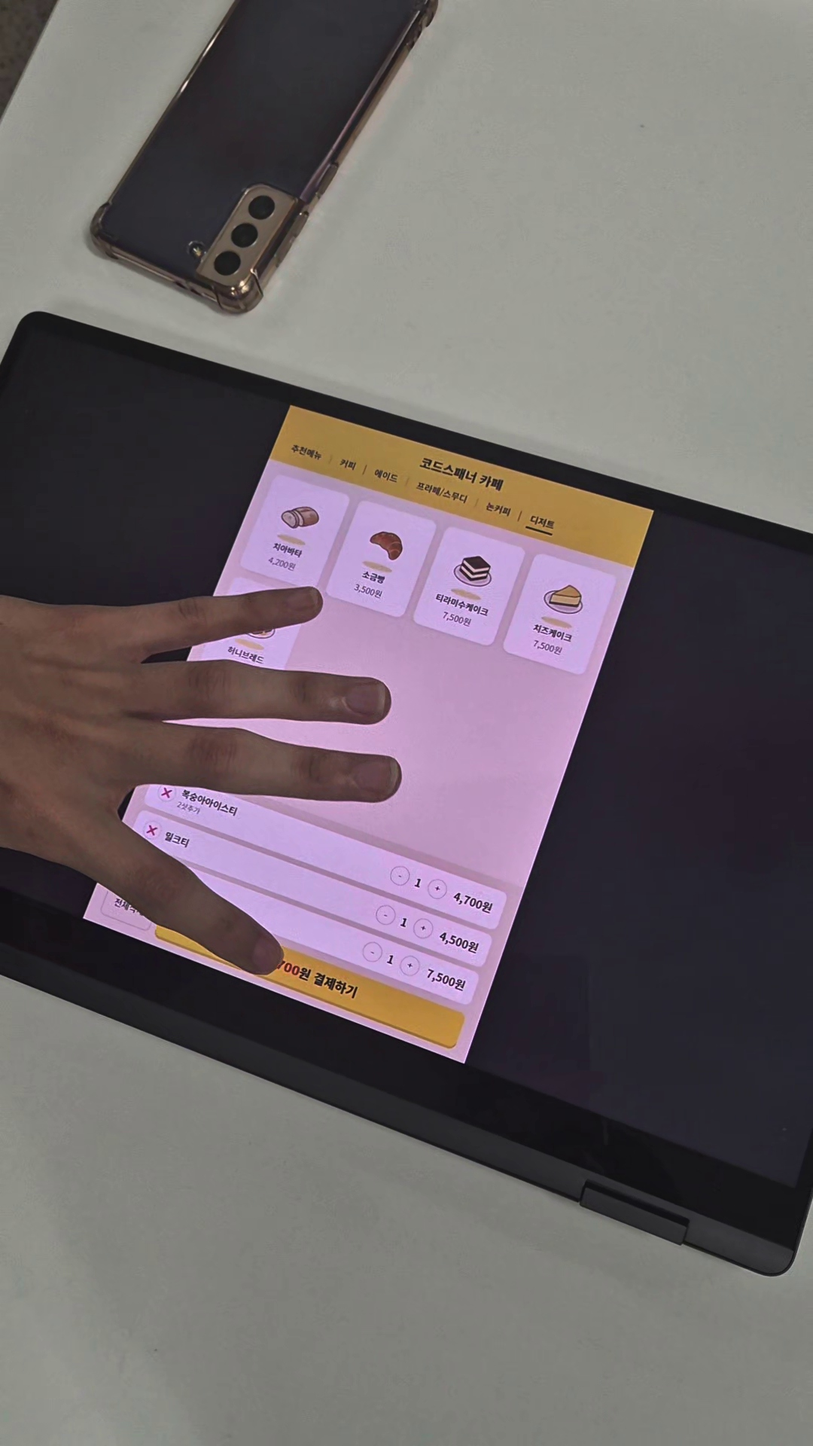action_button: (153, 903, 466, 1051), (99, 886, 159, 931)
cart_item: (113, 843, 480, 1007), (142, 770, 508, 931), (128, 808, 494, 969)
category_tab: (414, 480, 469, 505), (289, 442, 324, 462), (484, 500, 513, 518), (528, 513, 556, 531), (372, 467, 400, 484), (336, 457, 360, 472)
menu_back: (410, 525, 528, 648), (500, 553, 617, 675), (237, 472, 352, 592), (323, 499, 438, 619)
menu_name: (179, 788, 240, 818), (434, 591, 490, 618), (532, 622, 573, 644), (225, 644, 266, 666), (271, 541, 304, 559), (162, 830, 192, 849), (360, 569, 387, 585)
menu_price: (451, 889, 494, 916), (438, 929, 481, 956), (424, 967, 467, 993), (531, 638, 563, 657), (352, 582, 384, 600), (266, 555, 297, 573), (441, 610, 472, 628)
